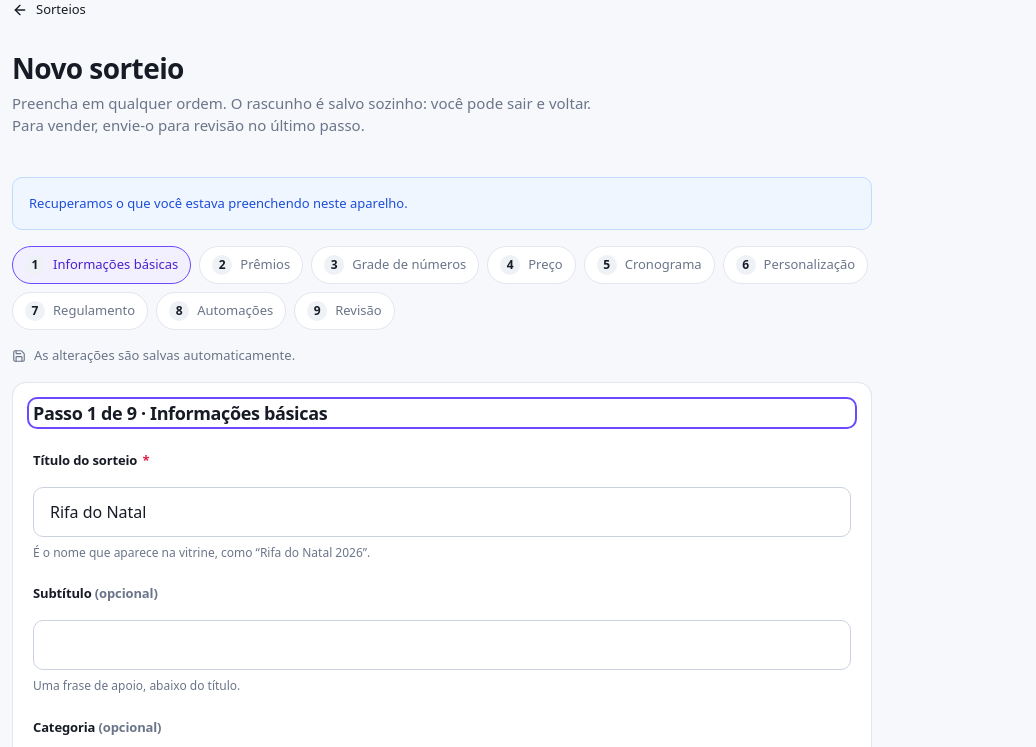
Test case: revisao e envio › sem conta de recebimento: avisa, mas nao impede o envio
Click the button "9 Revisão" at (344, 311), box [294,292,395,330]
Wait 10 ms
(page scrolled)
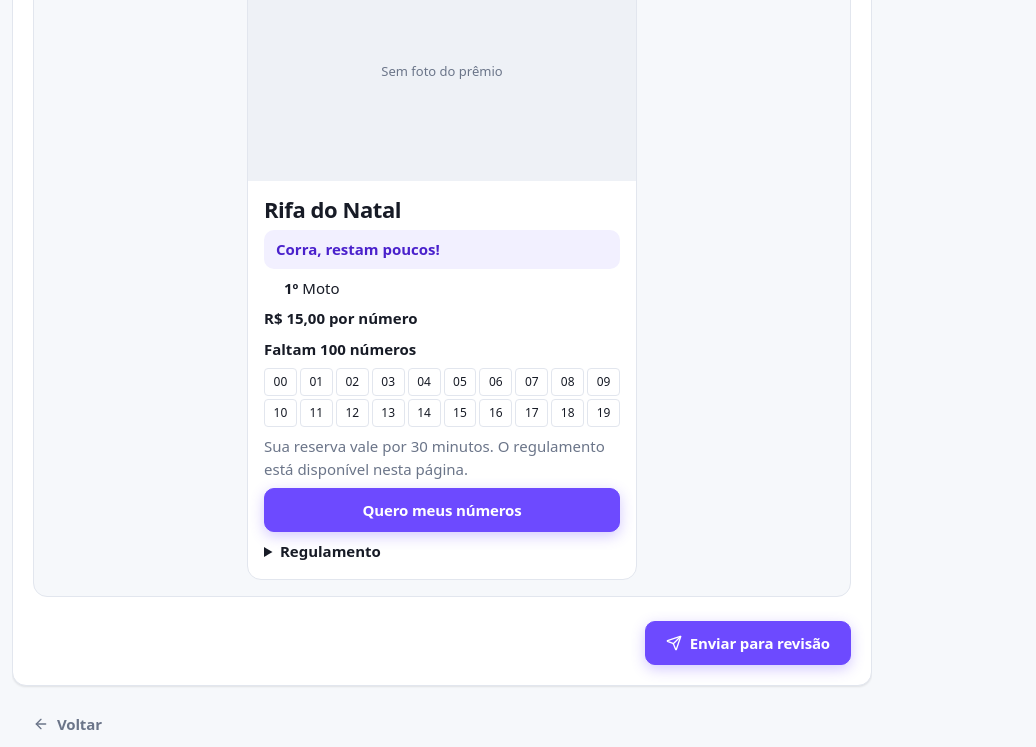
Expected: the button "Enviar para revisão" is enabled, [645,621,851,665]
